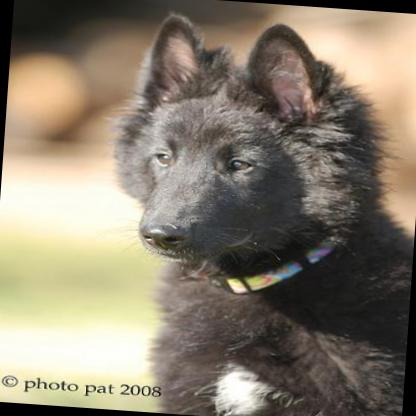groenendael: (91, 7, 416, 416)
